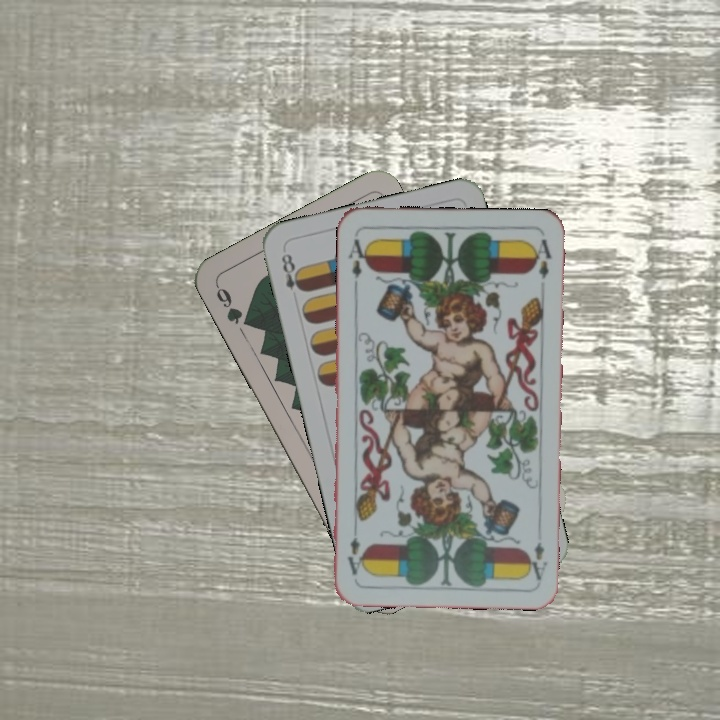E8: (277, 249, 307, 294)
EA: (343, 235, 371, 290), (524, 538, 550, 583)
G9: (212, 281, 255, 330)
